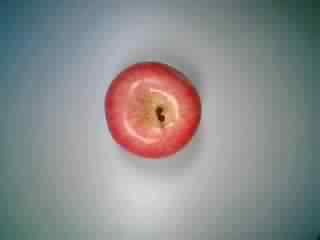apple: (101, 60, 206, 162)
